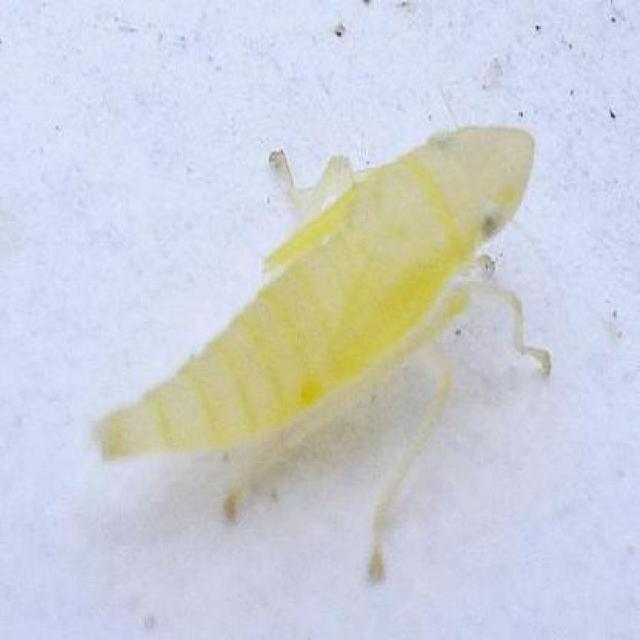green-leafhopper: (103, 128, 558, 580)
